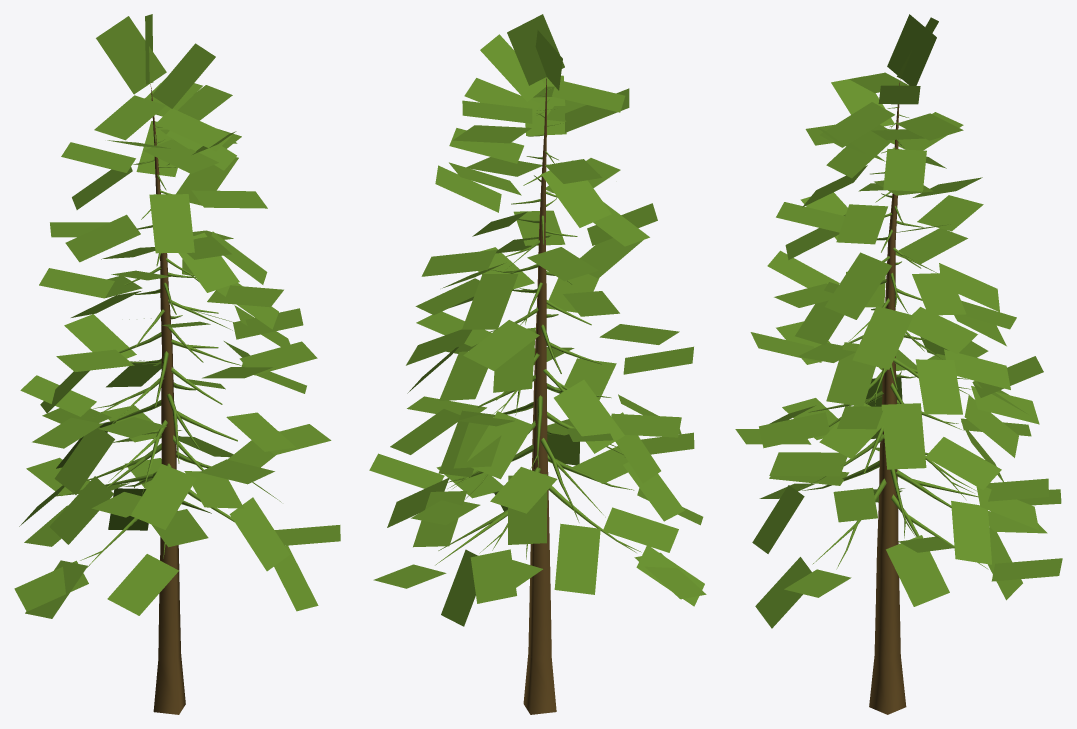
The model's file is ArbolPino.fbx.
The picture shows the model from 3 angles, left to right: view 1: azimuth 30°, elevation 25°; view 2: azimuth 150°, elevation 25°; view 3: azimuth 270°, elevation 25°; orthographic projection. The views are drawn at different scales.
Visible parts, largest first — view 1: leaves.001, Pino_Low_1083f; view 2: leaves.001, Pino_Low_1083f; view 3: leaves.001, Pino_Low_1083f.
Part boxes in pixels (bbox=[...]): leaves.001: bbox=[14, 14, 340, 618]; Pino_Low_1083f: bbox=[80, 84, 244, 714]; leaves.001: bbox=[369, 14, 706, 626]; Pino_Low_1083f: bbox=[435, 77, 641, 714]; leaves.001: bbox=[735, 14, 1062, 628]; Pino_Low_1083f: bbox=[799, 79, 988, 714].
Bounding box in the file's own units: 1045 × 2326 × 1006.
